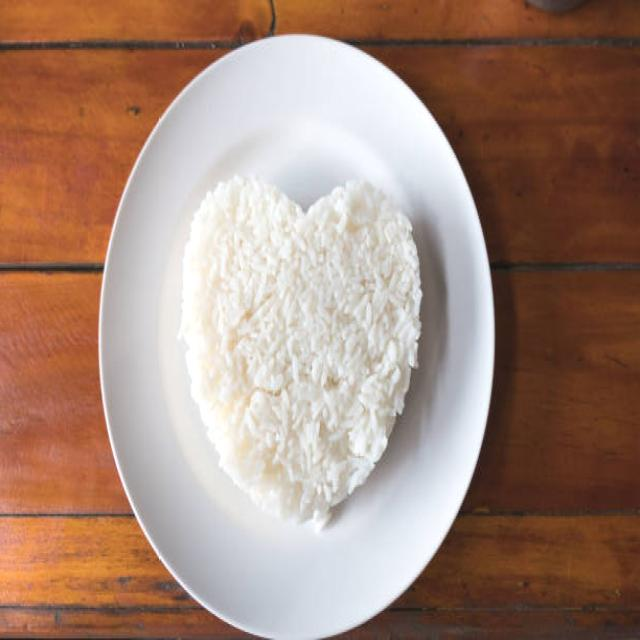Rice: (179, 176, 421, 535)
